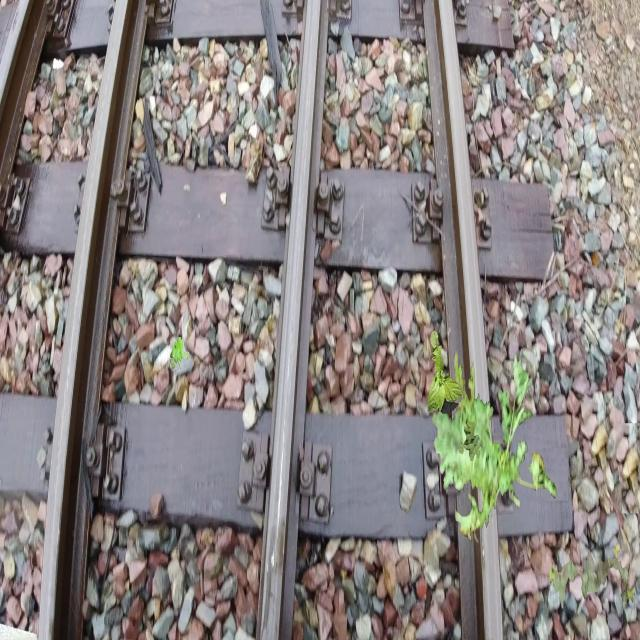Plant: (432, 348, 557, 544), (548, 542, 634, 610), (428, 331, 464, 414), (458, 420, 482, 461), (170, 337, 190, 370)
